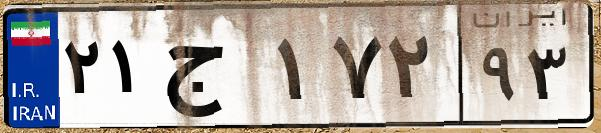1: (270, 28, 330, 110), (110, 28, 158, 98)
2: (385, 28, 445, 110), (57, 26, 110, 100)
3: (525, 38, 570, 115)
7: (330, 28, 385, 110)
9: (475, 38, 525, 113)
ج: (158, 20, 270, 120)
